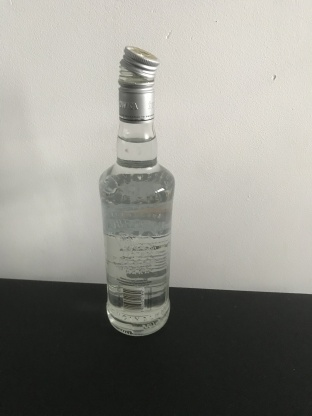nakretka: (116, 42, 161, 124)
